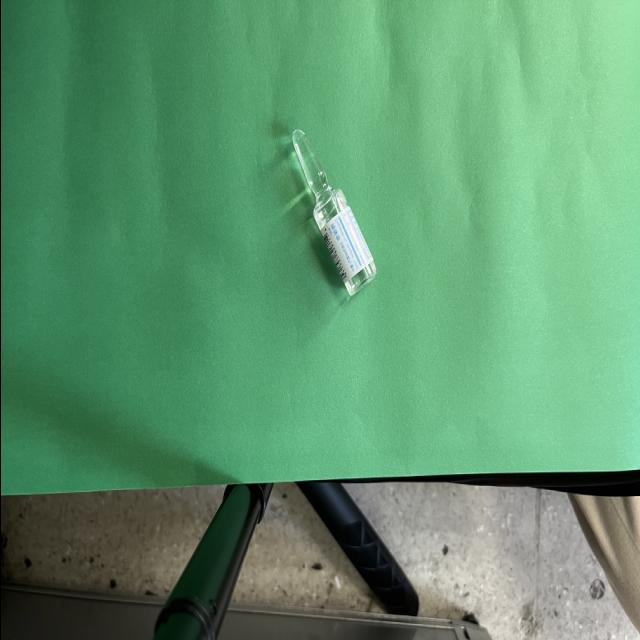Ampoules: (291, 129, 375, 295)
